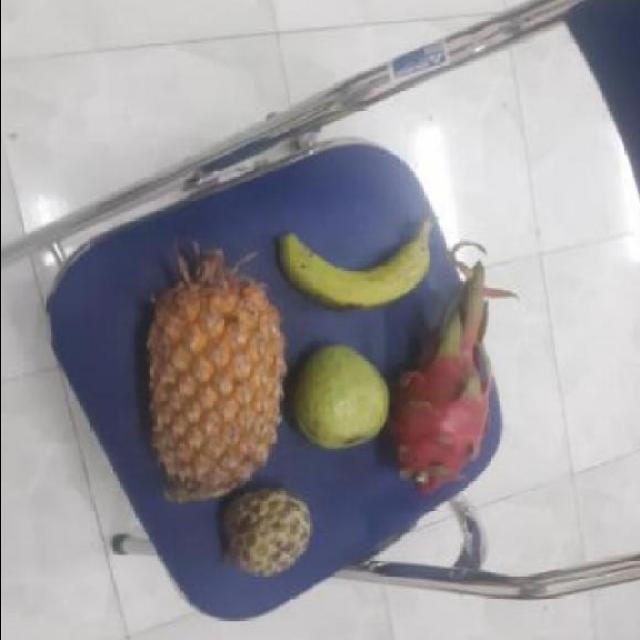banana: (276, 224, 432, 314)
dragon fruit: (382, 326, 497, 486)
guava: (289, 341, 388, 457)
pineapple: (141, 252, 285, 506)
sugar apple: (220, 481, 311, 575)
